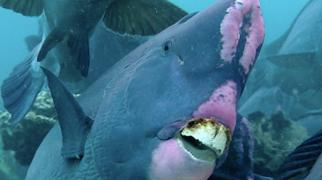Scaridae -Parrotfishes-: (31, 0, 272, 180)
